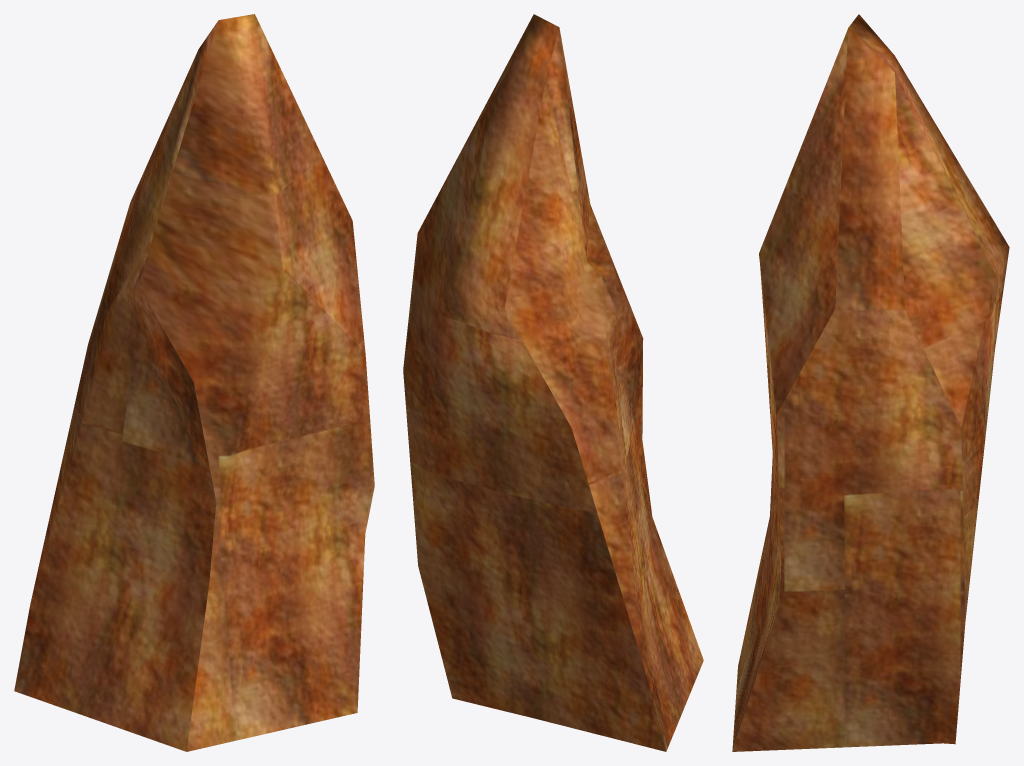
File: rock_1.obj
3 views of the same model, side by side, from view 1: azimuth 30°, elevation 25°; view 2: azimuth 150°, elevation 25°; view 3: azimuth 270°, elevation 25° (orthographic). The views are drawn at different scales.
Parts seen in each view (by area): view 1: pCube1; view 2: pCube1; view 3: pCube1.
Boxes of the visible parts, bbox=[...] form: pCube1: bbox=[14, 14, 374, 751]; pCube1: bbox=[403, 14, 703, 751]; pCube1: bbox=[732, 14, 1009, 751].
Bounding box in the file's own units: 2.77 × 6.34 × 2.27.
